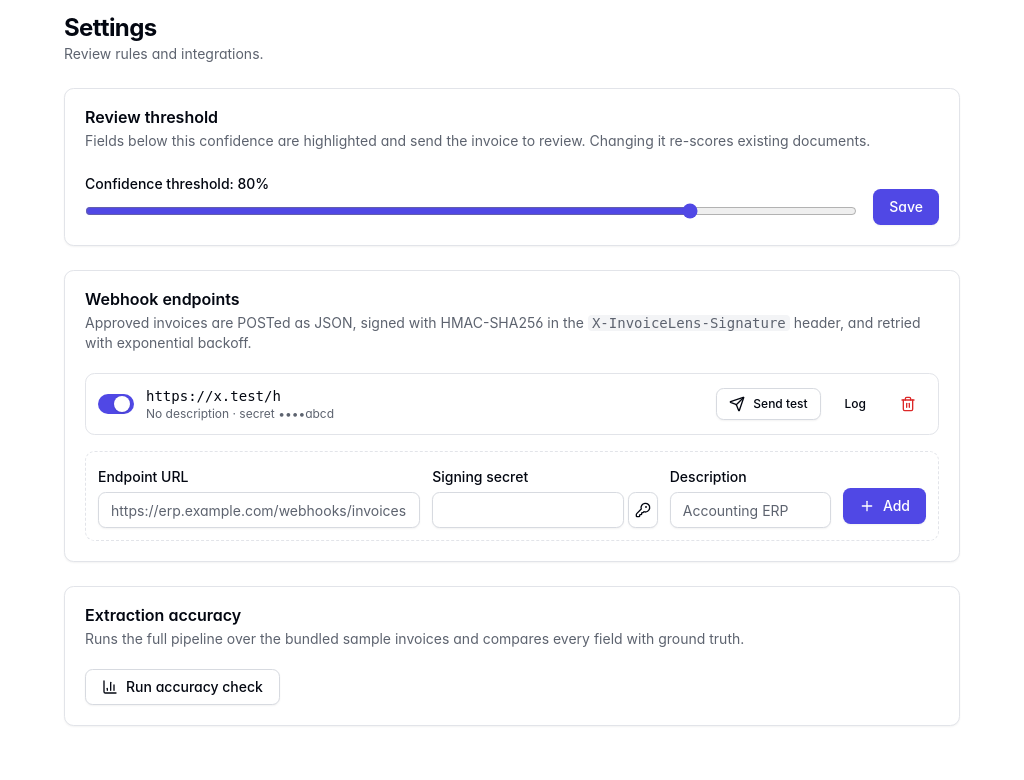
Scenario: SettingsPage › shows failed test deliveries
What coordinates should you click on to do the following:
click the button "Send test"
I would click on:
 (768, 404)
Its box is top-left (716, 388), bottom-right (820, 420).
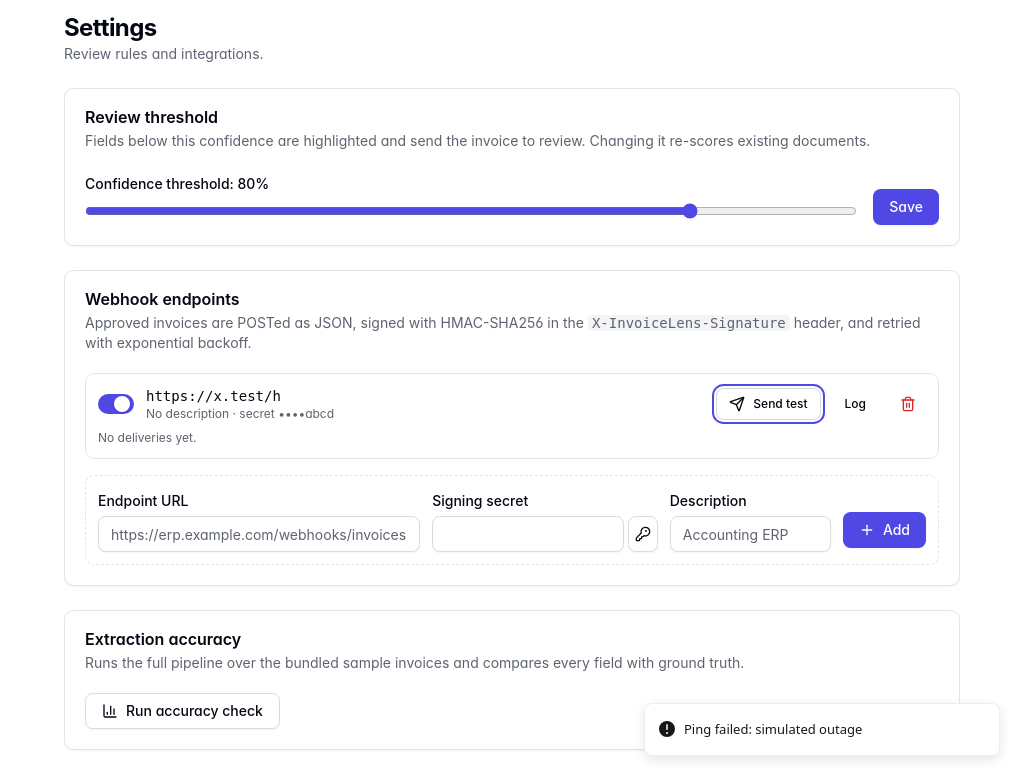
Check: the text "Ping failed: simulated outage" is shown, box top-left (684, 720), bottom-right (862, 739)
